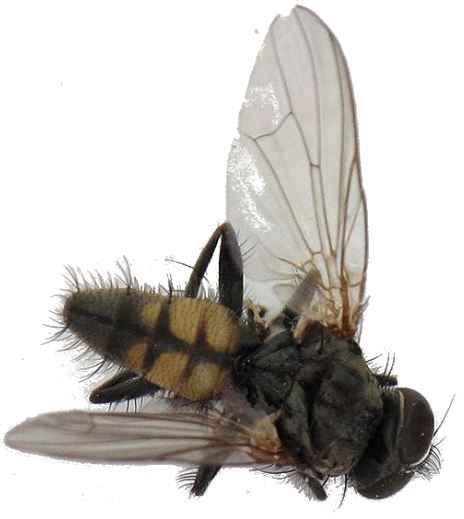house fly: (5, 5, 449, 505)
